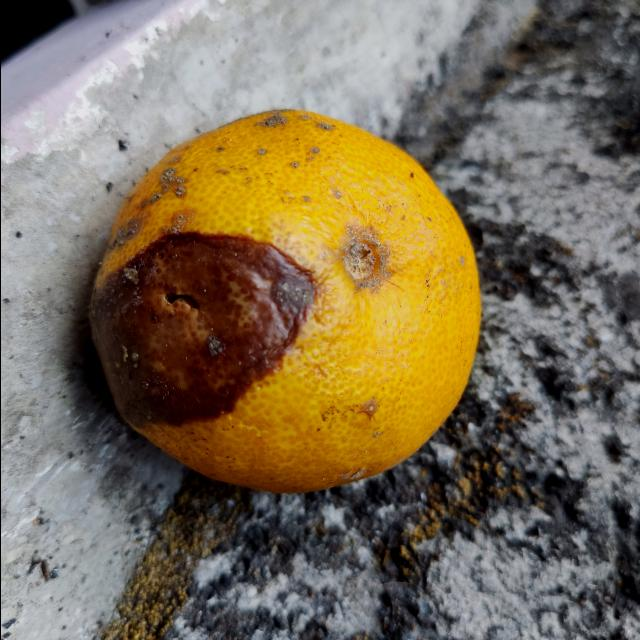orange: (86, 107, 484, 494)
